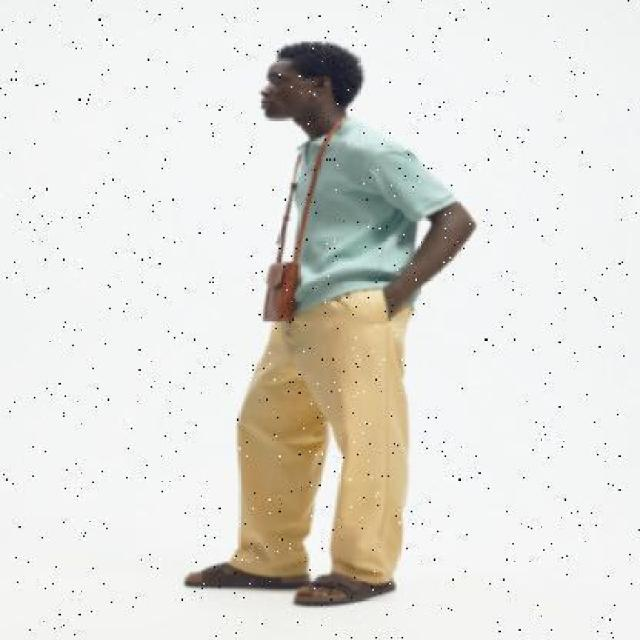person: (181, 39, 476, 610)
